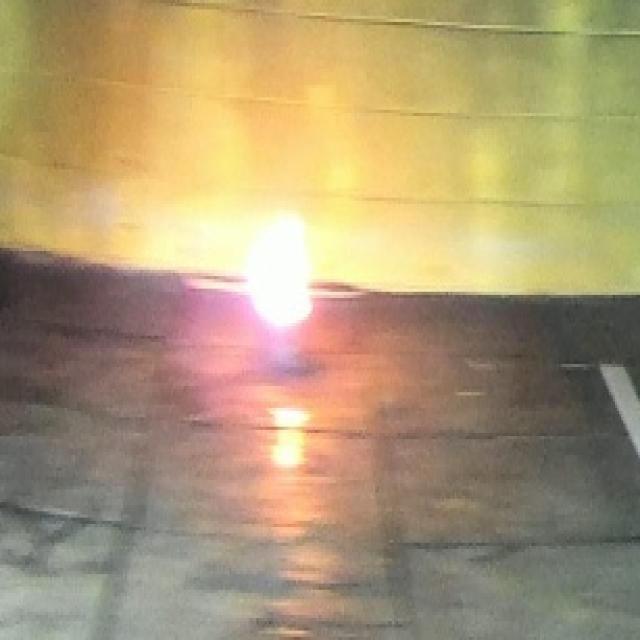Fire: (248, 214, 312, 326)
